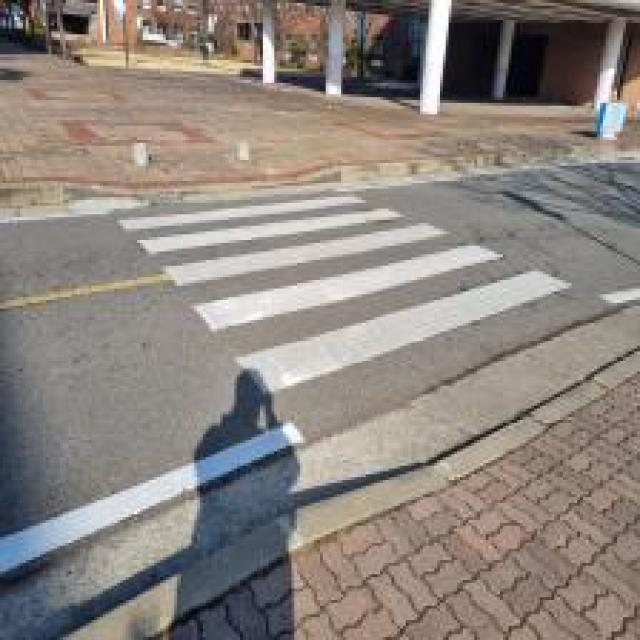walk-crossing: (124, 207, 550, 399)
